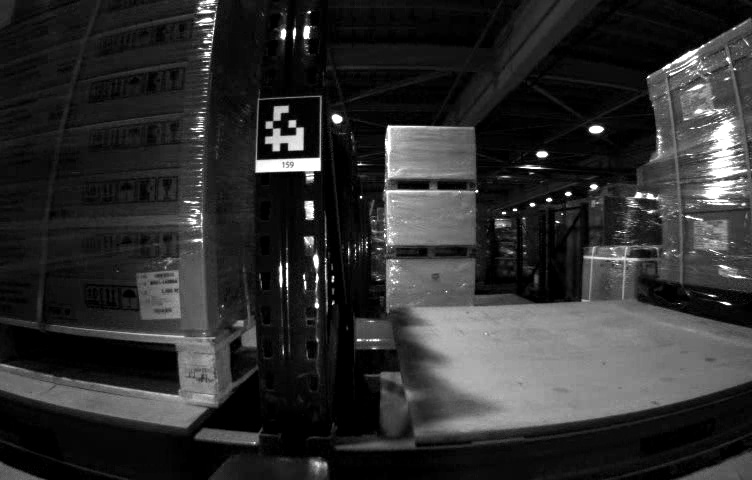True Barcode: (136, 270, 183, 320)
